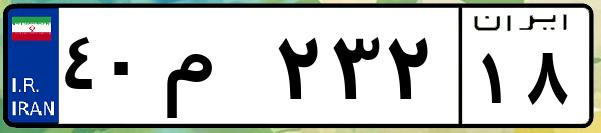0: (110, 28, 158, 98)
1: (475, 38, 525, 113)
2: (270, 28, 330, 110), (385, 28, 445, 110)
3: (330, 28, 385, 110)
4: (57, 26, 110, 100)
8: (525, 38, 570, 115)
م: (158, 20, 270, 120)
